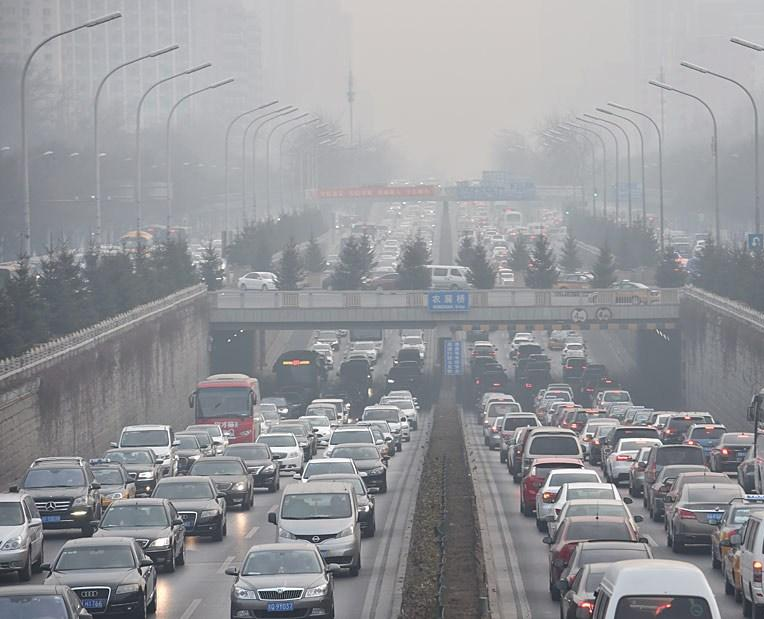bus: (186, 371, 261, 444)
car: (267, 480, 368, 579), (37, 535, 156, 618), (223, 538, 341, 619), (589, 554, 728, 619), (541, 515, 642, 599), (8, 456, 101, 537), (88, 497, 188, 572), (556, 540, 656, 608), (557, 563, 673, 619), (549, 499, 645, 564), (662, 480, 746, 554), (301, 471, 380, 540), (147, 475, 226, 543), (706, 493, 764, 571), (516, 426, 588, 488), (535, 468, 607, 528), (516, 457, 589, 516), (551, 481, 637, 531), (108, 422, 182, 480), (185, 454, 255, 512), (293, 456, 367, 507), (1, 491, 43, 580), (649, 464, 715, 520), (1, 580, 95, 619), (637, 443, 705, 496), (665, 470, 732, 522), (97, 446, 166, 496), (220, 441, 281, 496), (327, 442, 390, 495), (504, 421, 562, 477), (600, 423, 663, 473), (76, 457, 137, 507), (602, 435, 664, 483), (625, 446, 685, 495), (739, 507, 764, 619), (319, 423, 386, 464), (721, 527, 757, 603), (407, 260, 482, 295), (357, 403, 407, 455), (498, 409, 544, 462), (584, 424, 639, 468), (263, 422, 318, 465), (254, 430, 308, 473), (588, 277, 661, 308), (709, 429, 760, 472), (659, 411, 709, 451), (160, 433, 208, 474), (681, 420, 732, 458), (182, 423, 232, 459), (548, 268, 604, 299), (482, 398, 524, 439), (173, 428, 220, 463), (568, 408, 610, 446), (487, 415, 531, 451), (576, 421, 620, 457), (596, 387, 637, 422), (357, 269, 411, 295), (303, 402, 342, 438), (379, 404, 411, 443), (384, 400, 420, 434), (236, 271, 287, 294), (297, 414, 330, 448), (537, 387, 572, 419), (546, 399, 581, 429), (468, 339, 500, 366), (504, 336, 537, 361), (347, 338, 380, 363), (693, 239, 724, 264), (630, 410, 670, 429), (668, 232, 694, 260), (560, 355, 589, 380), (311, 331, 343, 353), (309, 343, 336, 368), (398, 334, 427, 355), (560, 341, 587, 360)
